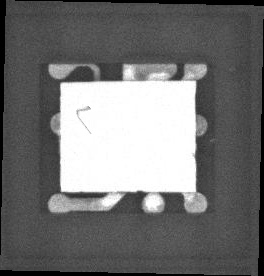DIE_INK: (73, 111, 87, 139)
